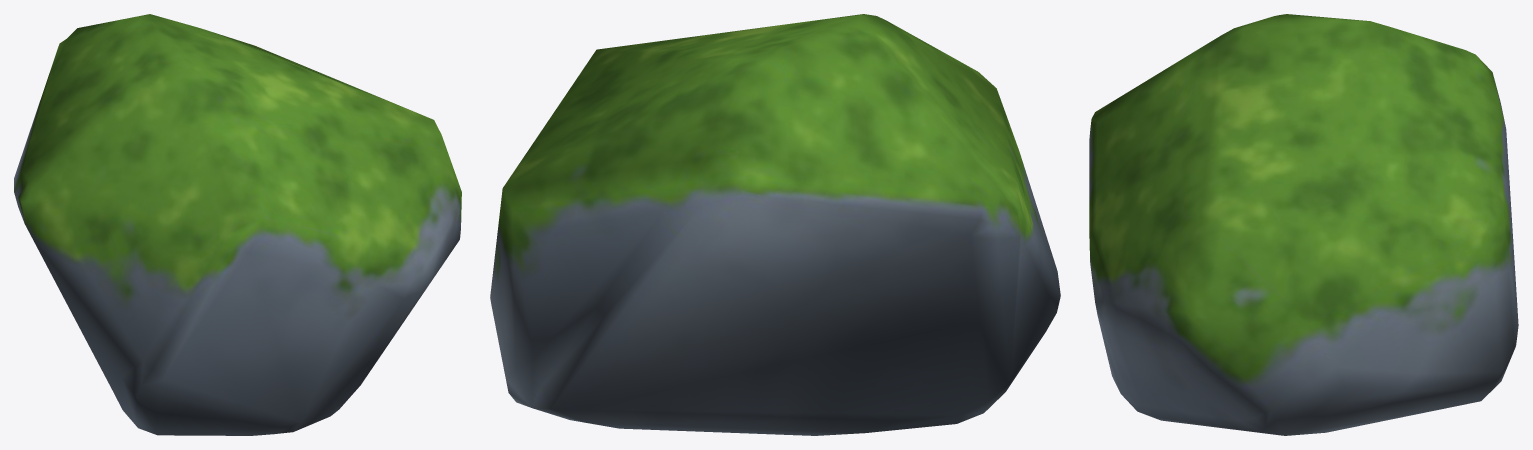
The model's file is boulder_moss_lod1.glb.
The picture shows the model from 3 angles, left to right: view 1: azimuth 30°, elevation 25°; view 2: azimuth 150°, elevation 25°; view 3: azimuth 270°, elevation 25°; orthographic projection. The views are drawn at different scales.
Parts seen in each view (by area): view 1: boulder_moss_lod1; view 2: boulder_moss_lod1; view 3: boulder_moss_lod1.
Boxes of the visible parts, box(x1,y1,x2,y2) form: boulder_moss_lod1: box(14, 14, 461, 435); boulder_moss_lod1: box(490, 14, 1060, 435); boulder_moss_lod1: box(1089, 14, 1518, 435).
Size of the model in its own units: 1.79 by 1.45 by 1.57.
Materials: 1 (1 with a texture image).
